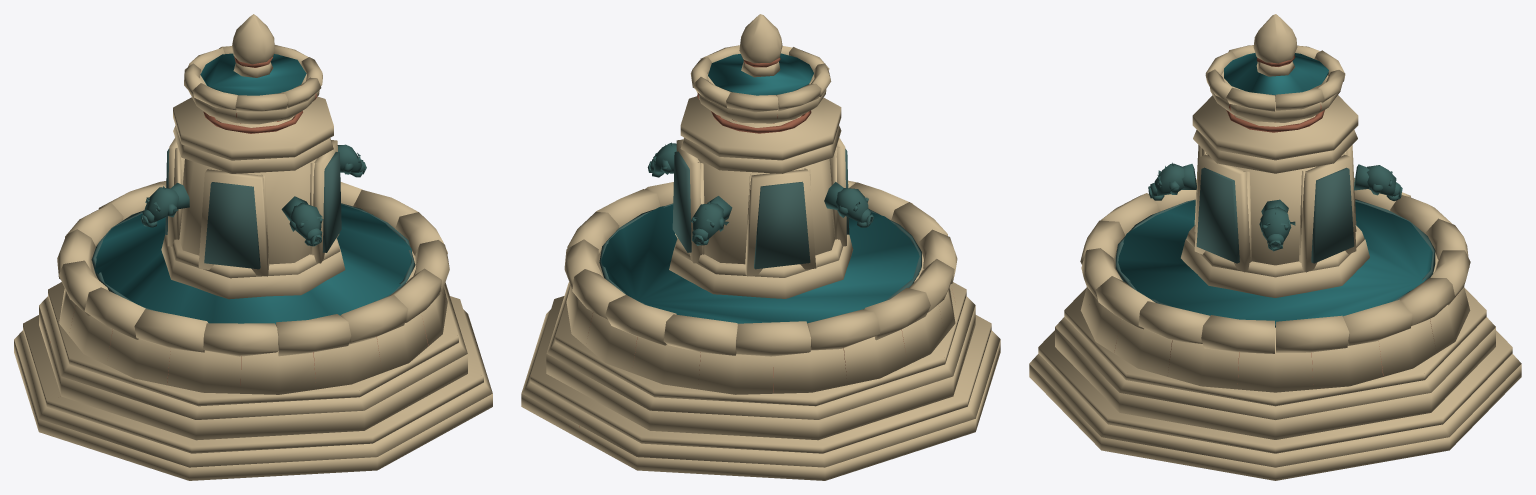
Rendered from PlazaFountain.LOD2.glb.
3 views of the same model, side by side, from view 1: azimuth 30°, elevation 25°; view 2: azimuth 150°, elevation 25°; view 3: azimuth 270°, elevation 25° (orthographic).
Visible parts, largest first — view 1: LOD2; view 2: LOD2; view 3: LOD2.
Boxes of the visible parts, left/top/right/bottom form: LOD2: left=14, top=14, right=492, bottom=480; LOD2: left=521, top=14, right=1000, bottom=480; LOD2: left=1029, top=14, right=1521, bottom=480.
Bounding box in the file's own units: 2.68 × 2.18 × 2.68.
